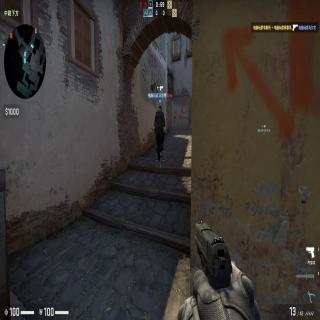CT-Body: (154, 103, 166, 163)
CT-Head: (158, 103, 162, 112)
